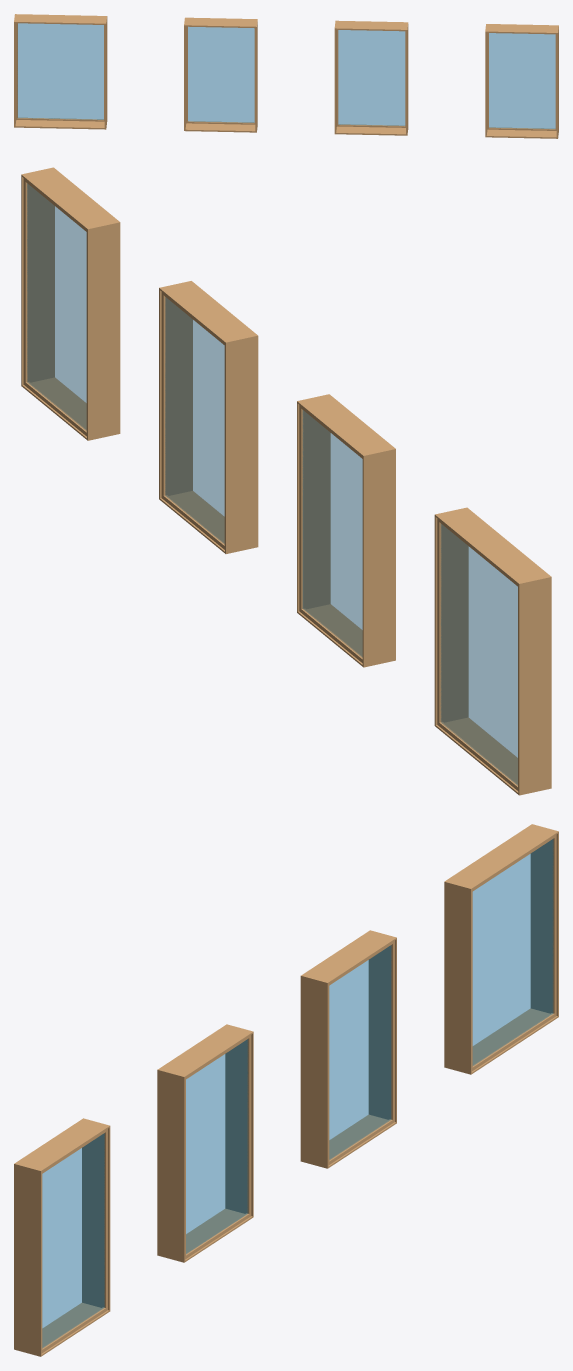
File: 20160125Autodesk_Hospital_Parking Garage_2015_Exist_Garage_-_Ground_Level_IfcWindow.dae
The picture shows the model from 3 angles, top to bottom: view 1: azimuth 30°, elevation 25°; view 2: azimuth 150°, elevation 25°; view 3: azimuth 270°, elevation 25°; orthographic projection. The views are drawn at different scales.
Visible parts, largest first — view 1: 2usksQzSfFAfxJiF$_vH5t, 26iONxQpXE4gO5dy3VBRVg, 26iONxQpXE4gO5dy3VBRQ8, 26iONxQpXE4gO5dy3VBRVP; view 2: 2usksQzSfFAfxJiF$_vH5t, 26iONxQpXE4gO5dy3VBRVP, 26iONxQpXE4gO5dy3VBRVg, 26iONxQpXE4gO5dy3VBRQ8; view 3: 2usksQzSfFAfxJiF$_vH5t, 26iONxQpXE4gO5dy3VBRVP, 26iONxQpXE4gO5dy3VBRVg, 26iONxQpXE4gO5dy3VBRQ8.
Boxes of the visible parts, left/top/right/bottom form: 2usksQzSfFAfxJiF$_vH5t: left=14, top=14, right=107, bottom=129; 26iONxQpXE4gO5dy3VBRVg: left=334, top=20, right=408, bottom=135; 26iONxQpXE4gO5dy3VBRQ8: left=184, top=17, right=257, bottom=132; 26iONxQpXE4gO5dy3VBRVP: left=485, top=24, right=558, bottom=138; 2usksQzSfFAfxJiF$_vH5t: left=434, top=507, right=551, bottom=795; 26iONxQpXE4gO5dy3VBRVP: left=21, top=167, right=120, bottom=440; 26iONxQpXE4gO5dy3VBRVg: left=159, top=281, right=258, bottom=553; 26iONxQpXE4gO5dy3VBRQ8: left=297, top=394, right=395, bottom=667; 2usksQzSfFAfxJiF$_vH5t: left=444, top=824, right=558, bottom=1074; 26iONxQpXE4gO5dy3VBRVP: left=14, top=1118, right=110, bottom=1356; 26iONxQpXE4gO5dy3VBRVg: left=157, top=1024, right=253, bottom=1262; 26iONxQpXE4gO5dy3VBRQ8: left=300, top=930, right=396, bottom=1168.
Bounding box in the file's own units: 9.77 × 6.48 × 2.44.
